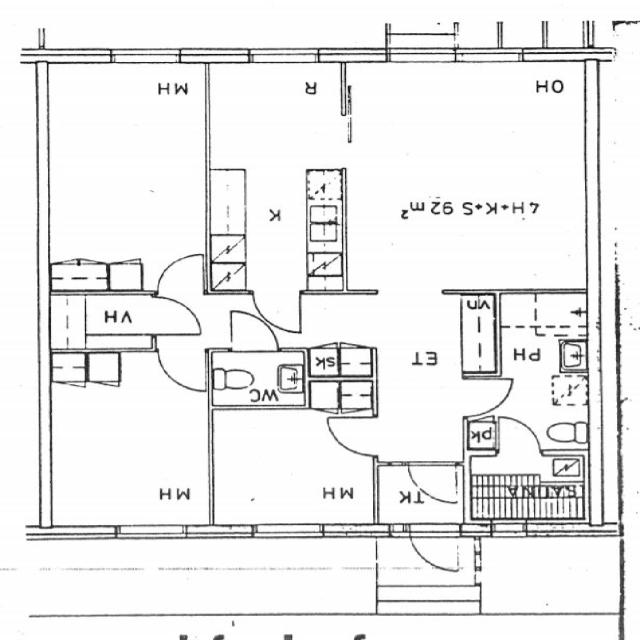door: (394, 460, 464, 512), (406, 522, 465, 576), (155, 342, 209, 395), (154, 250, 208, 302), (227, 308, 280, 352), (463, 376, 513, 422), (324, 415, 377, 457), (492, 413, 544, 455)
window: (244, 45, 323, 67), (107, 47, 185, 66), (116, 524, 190, 542), (251, 525, 323, 542), (376, 284, 444, 296)
zone: (48, 64, 210, 308), (207, 57, 346, 307), (205, 406, 376, 532), (466, 450, 590, 523), (50, 293, 206, 347), (208, 350, 306, 409), (49, 263, 110, 292)
